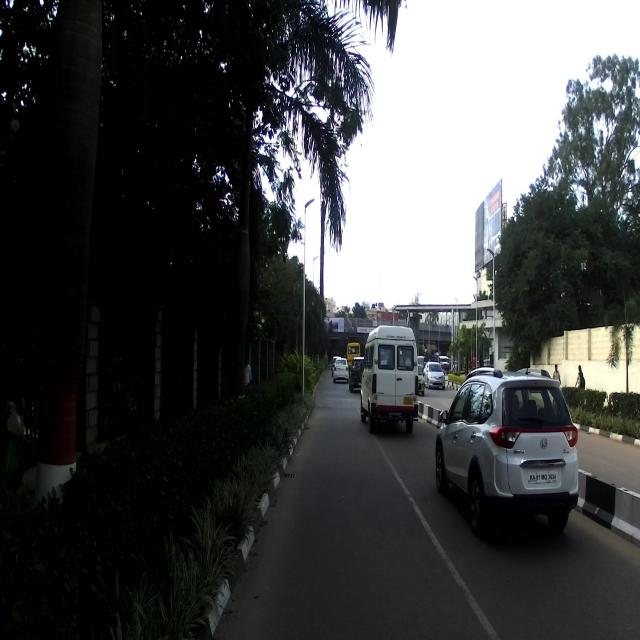car: (433, 366, 580, 532)
mini-bus: (358, 323, 420, 436)
